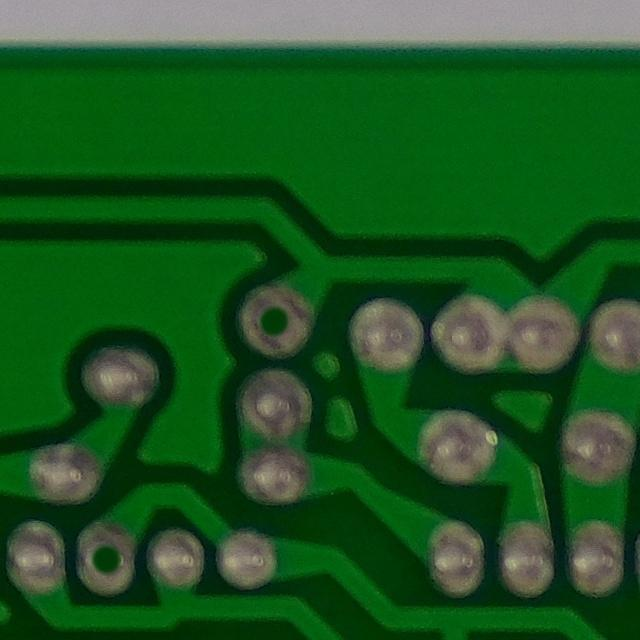missing_hole: (67, 517, 150, 603), (236, 287, 320, 357)
